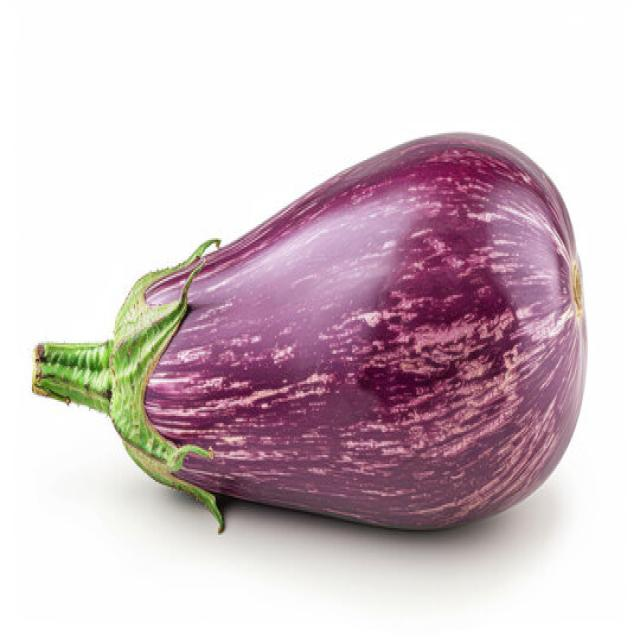Eggplant: (31, 130, 588, 533)
